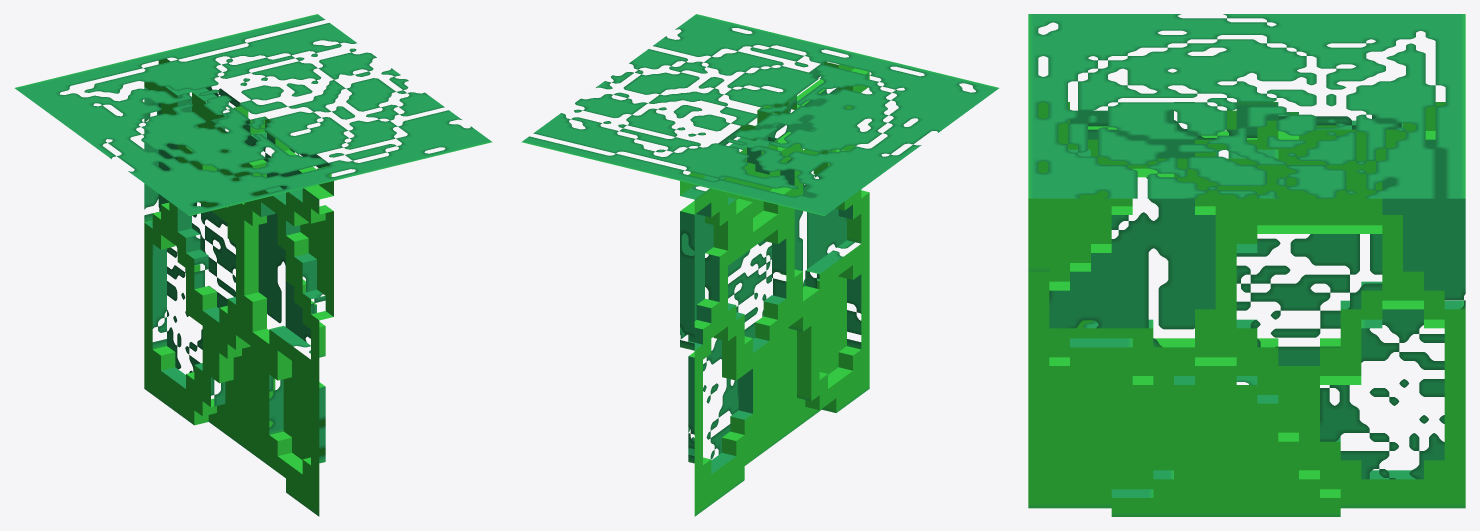
The model's file is Cliff_Straight.obj.
3 views of the same model, side by side, from view 1: azimuth 30°, elevation 25°; view 2: azimuth 150°, elevation 25°; view 3: azimuth 270°, elevation 25° (orthographic). The views are drawn at different scales.
Visible parts, largest first — view 1: Cube.1089; view 2: Cube.1089; view 3: Cube.1089.
Part boxes in pixels (x1=…): Cube.1089: x1=14, y1=14, x2=492, y2=516; Cube.1089: x1=521, y1=14, x2=999, y2=516; Cube.1089: x1=1028, y1=14, x2=1465, y2=516.
Bounding box in the file's own units: 2.1 × 2.2 × 2.1.
